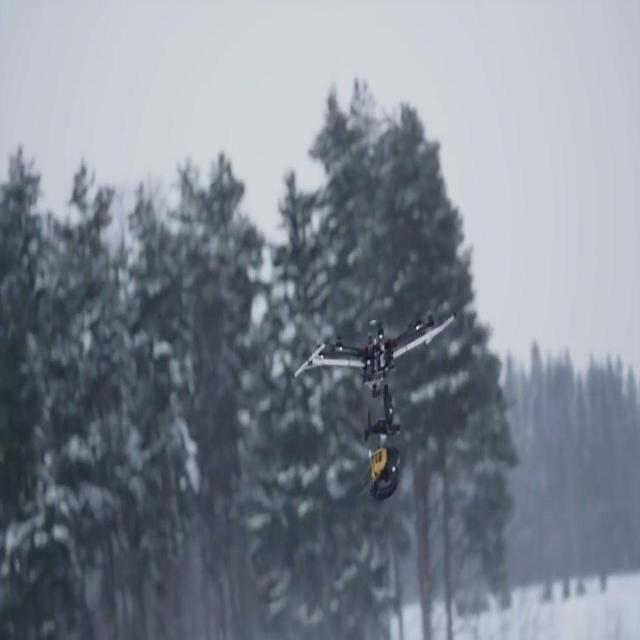drone: (293, 311, 464, 507)
